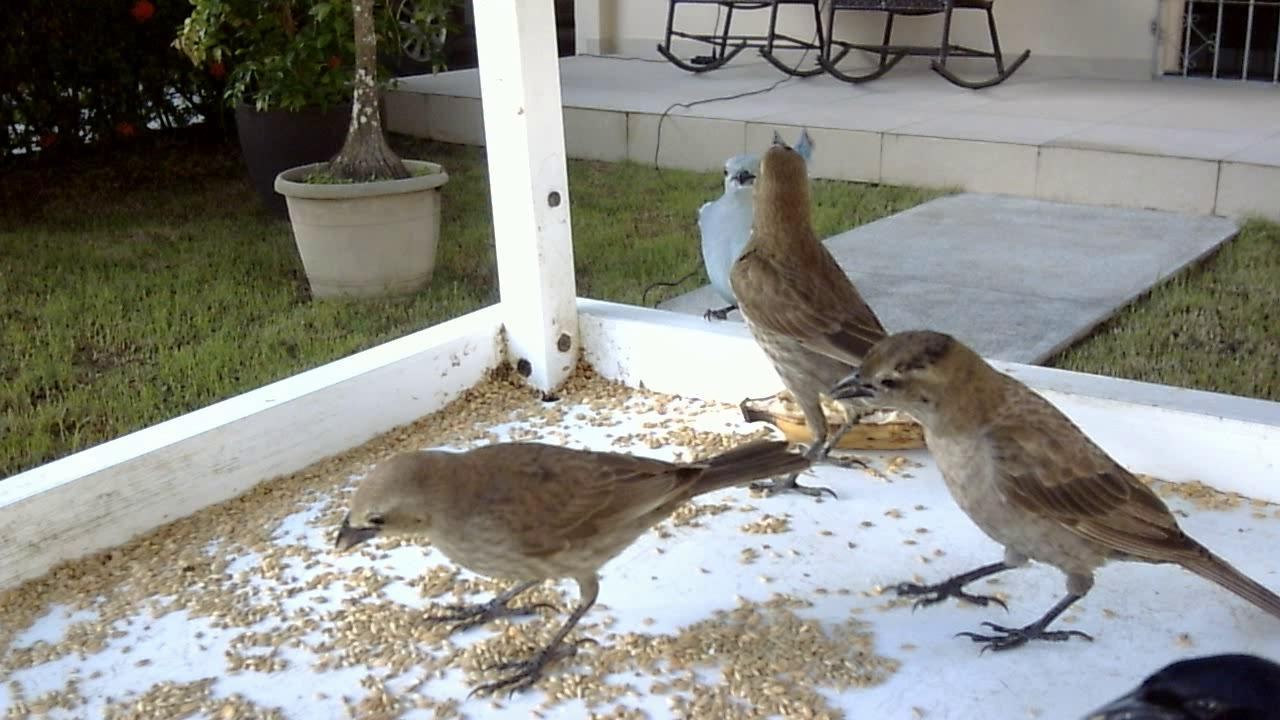chupim: (827, 316, 1280, 666), (324, 411, 843, 699), (701, 138, 915, 505)
sanhaco_da_amazonia: (641, 154, 764, 324)
